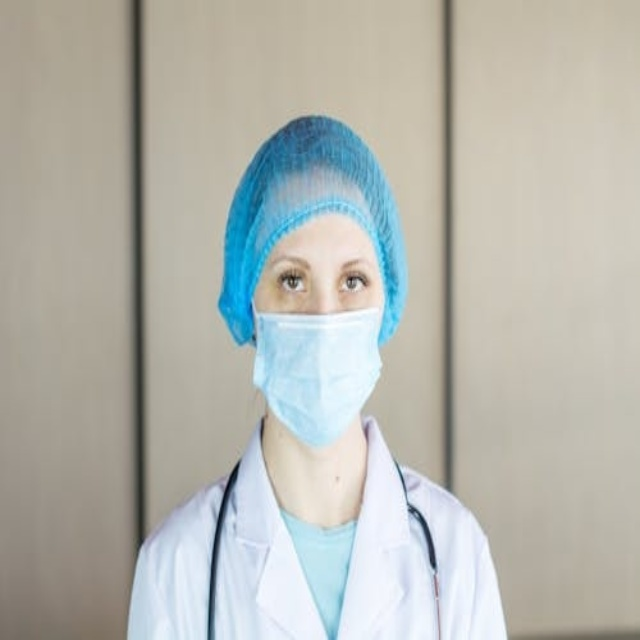Mascara: (250, 301, 385, 447)
Sin_gafas: (265, 246, 381, 308)
